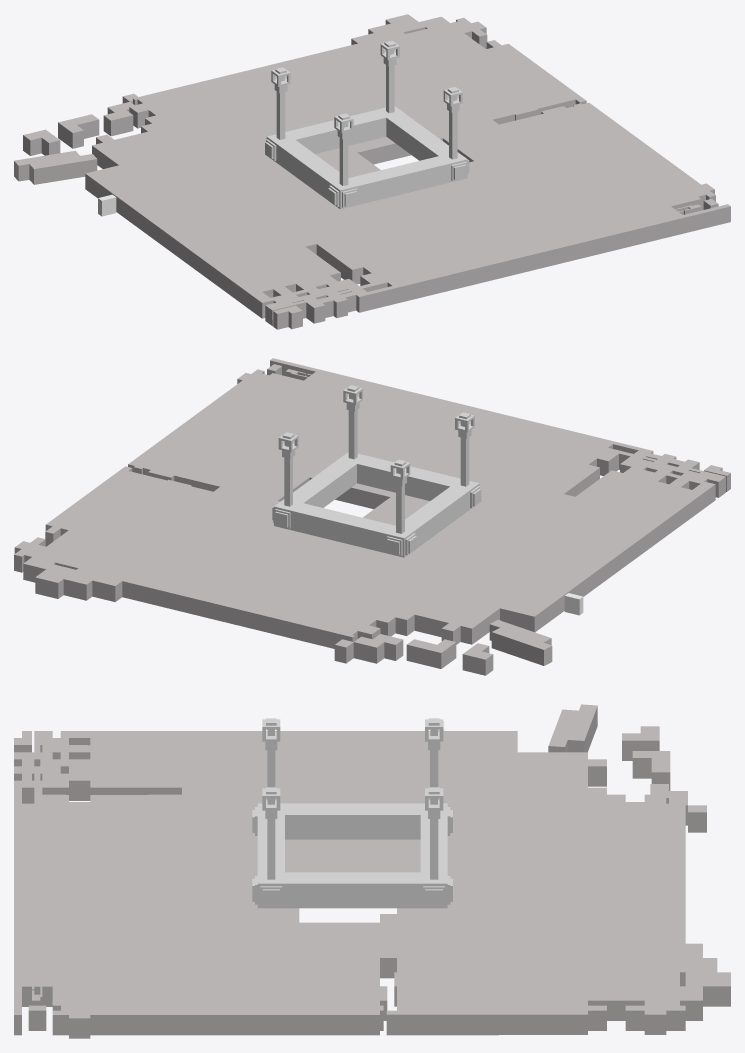
Rendered from Hub.fbx.
3 renders of one model, top to bottom at view 1: azimuth 30°, elevation 25°; view 2: azimuth 150°, elevation 25°; view 3: azimuth 270°, elevation 25°, orthographic. The views are drawn at different scales.
Parts seen in each view (by area): view 1: Central Hall, Reception, Central Hall.004, Central Hall.006, Central Hall.007, Central Hall.005, Central Hall.003; view 2: Central Hall, Reception, Central Hall.004, Central Hall.007, Central Hall.006, Central Hall.005; view 3: Central Hall, Reception, Central Hall.004, Central Hall.006, Central Hall.007, Central Hall.005.
Part boxes in pixels (left/top/right/bottom): Central Hall: left=85, top=14, right=730, bottom=326; Reception: left=265, top=40, right=469, bottom=209; Central Hall.004: left=14, top=150, right=97, bottom=184; Central Hall.006: left=58, top=114, right=99, bottom=148; Central Hall.007: left=103, top=93, right=137, bottom=136; Central Hall.005: left=23, top=129, right=60, bottom=155; Central Hall.003: left=273, top=305, right=302, bottom=329; Central Hall: left=14, top=358, right=725, bottom=648; Reception: left=272, top=385, right=481, bottom=557; Central Hall.004: left=489, top=620, right=552, bottom=665; Central Hall.007: left=334, top=634, right=403, bottom=663; Central Hall.006: left=406, top=639, right=456, bottom=668; Central Hall.005: left=462, top=643, right=493, bottom=675; Central Hall: left=14, top=731, right=730, bottom=1038; Reception: left=252, top=718, right=452, bottom=908; Central Hall.004: left=548, top=704, right=597, bottom=752; Central Hall.006: left=632, top=751, right=670, bottom=790; Central Hall.007: left=650, top=784, right=706, bottom=832; Central Hall.005: left=622, top=726, right=659, bottom=760.
Size of the model in its own units: 5473 by 1122 by 5284.
